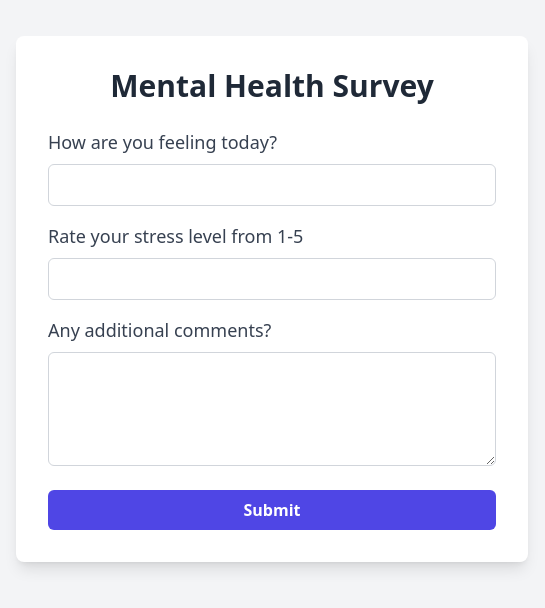
Test: SurveyForm › displays error if not all fields are filled out
What coordinates should you click on to do the following:
click the button "Submit"
I would click on:
 (272, 510)
Its box is [48,490,496,530].
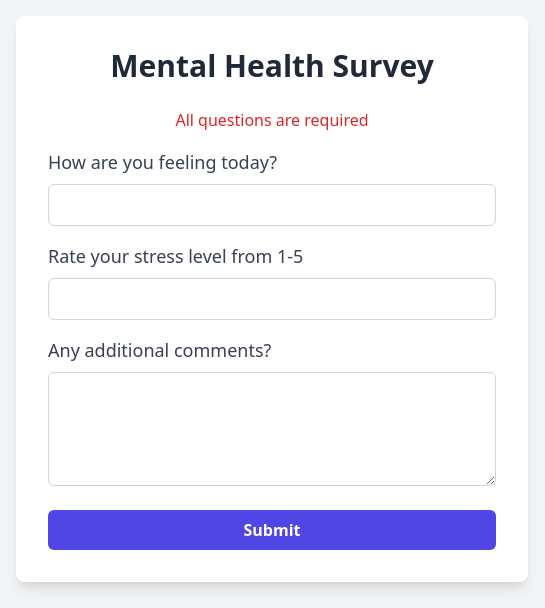
expect the text "All questions are required" is shown: met, box [175,109,368,131]
